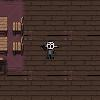Hide: (0, 56, 8, 76)
Jason: (40, 40, 59, 59)
Obstacle: (8, 16, 26, 36), (8, 36, 26, 56), (0, 16, 8, 36), (0, 36, 8, 56)
